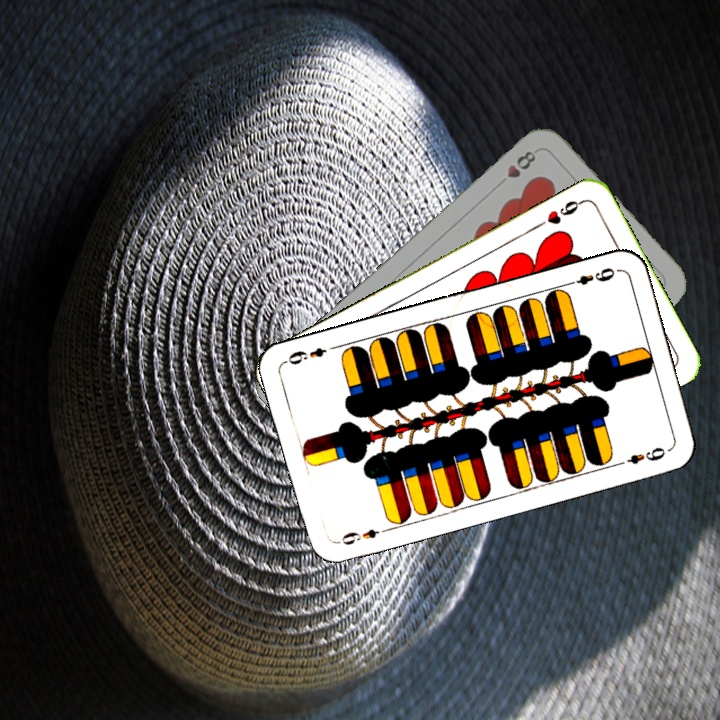E9: (562, 263, 618, 289), (332, 524, 391, 548)
H8: (493, 146, 539, 190)
H9: (532, 195, 586, 231)
